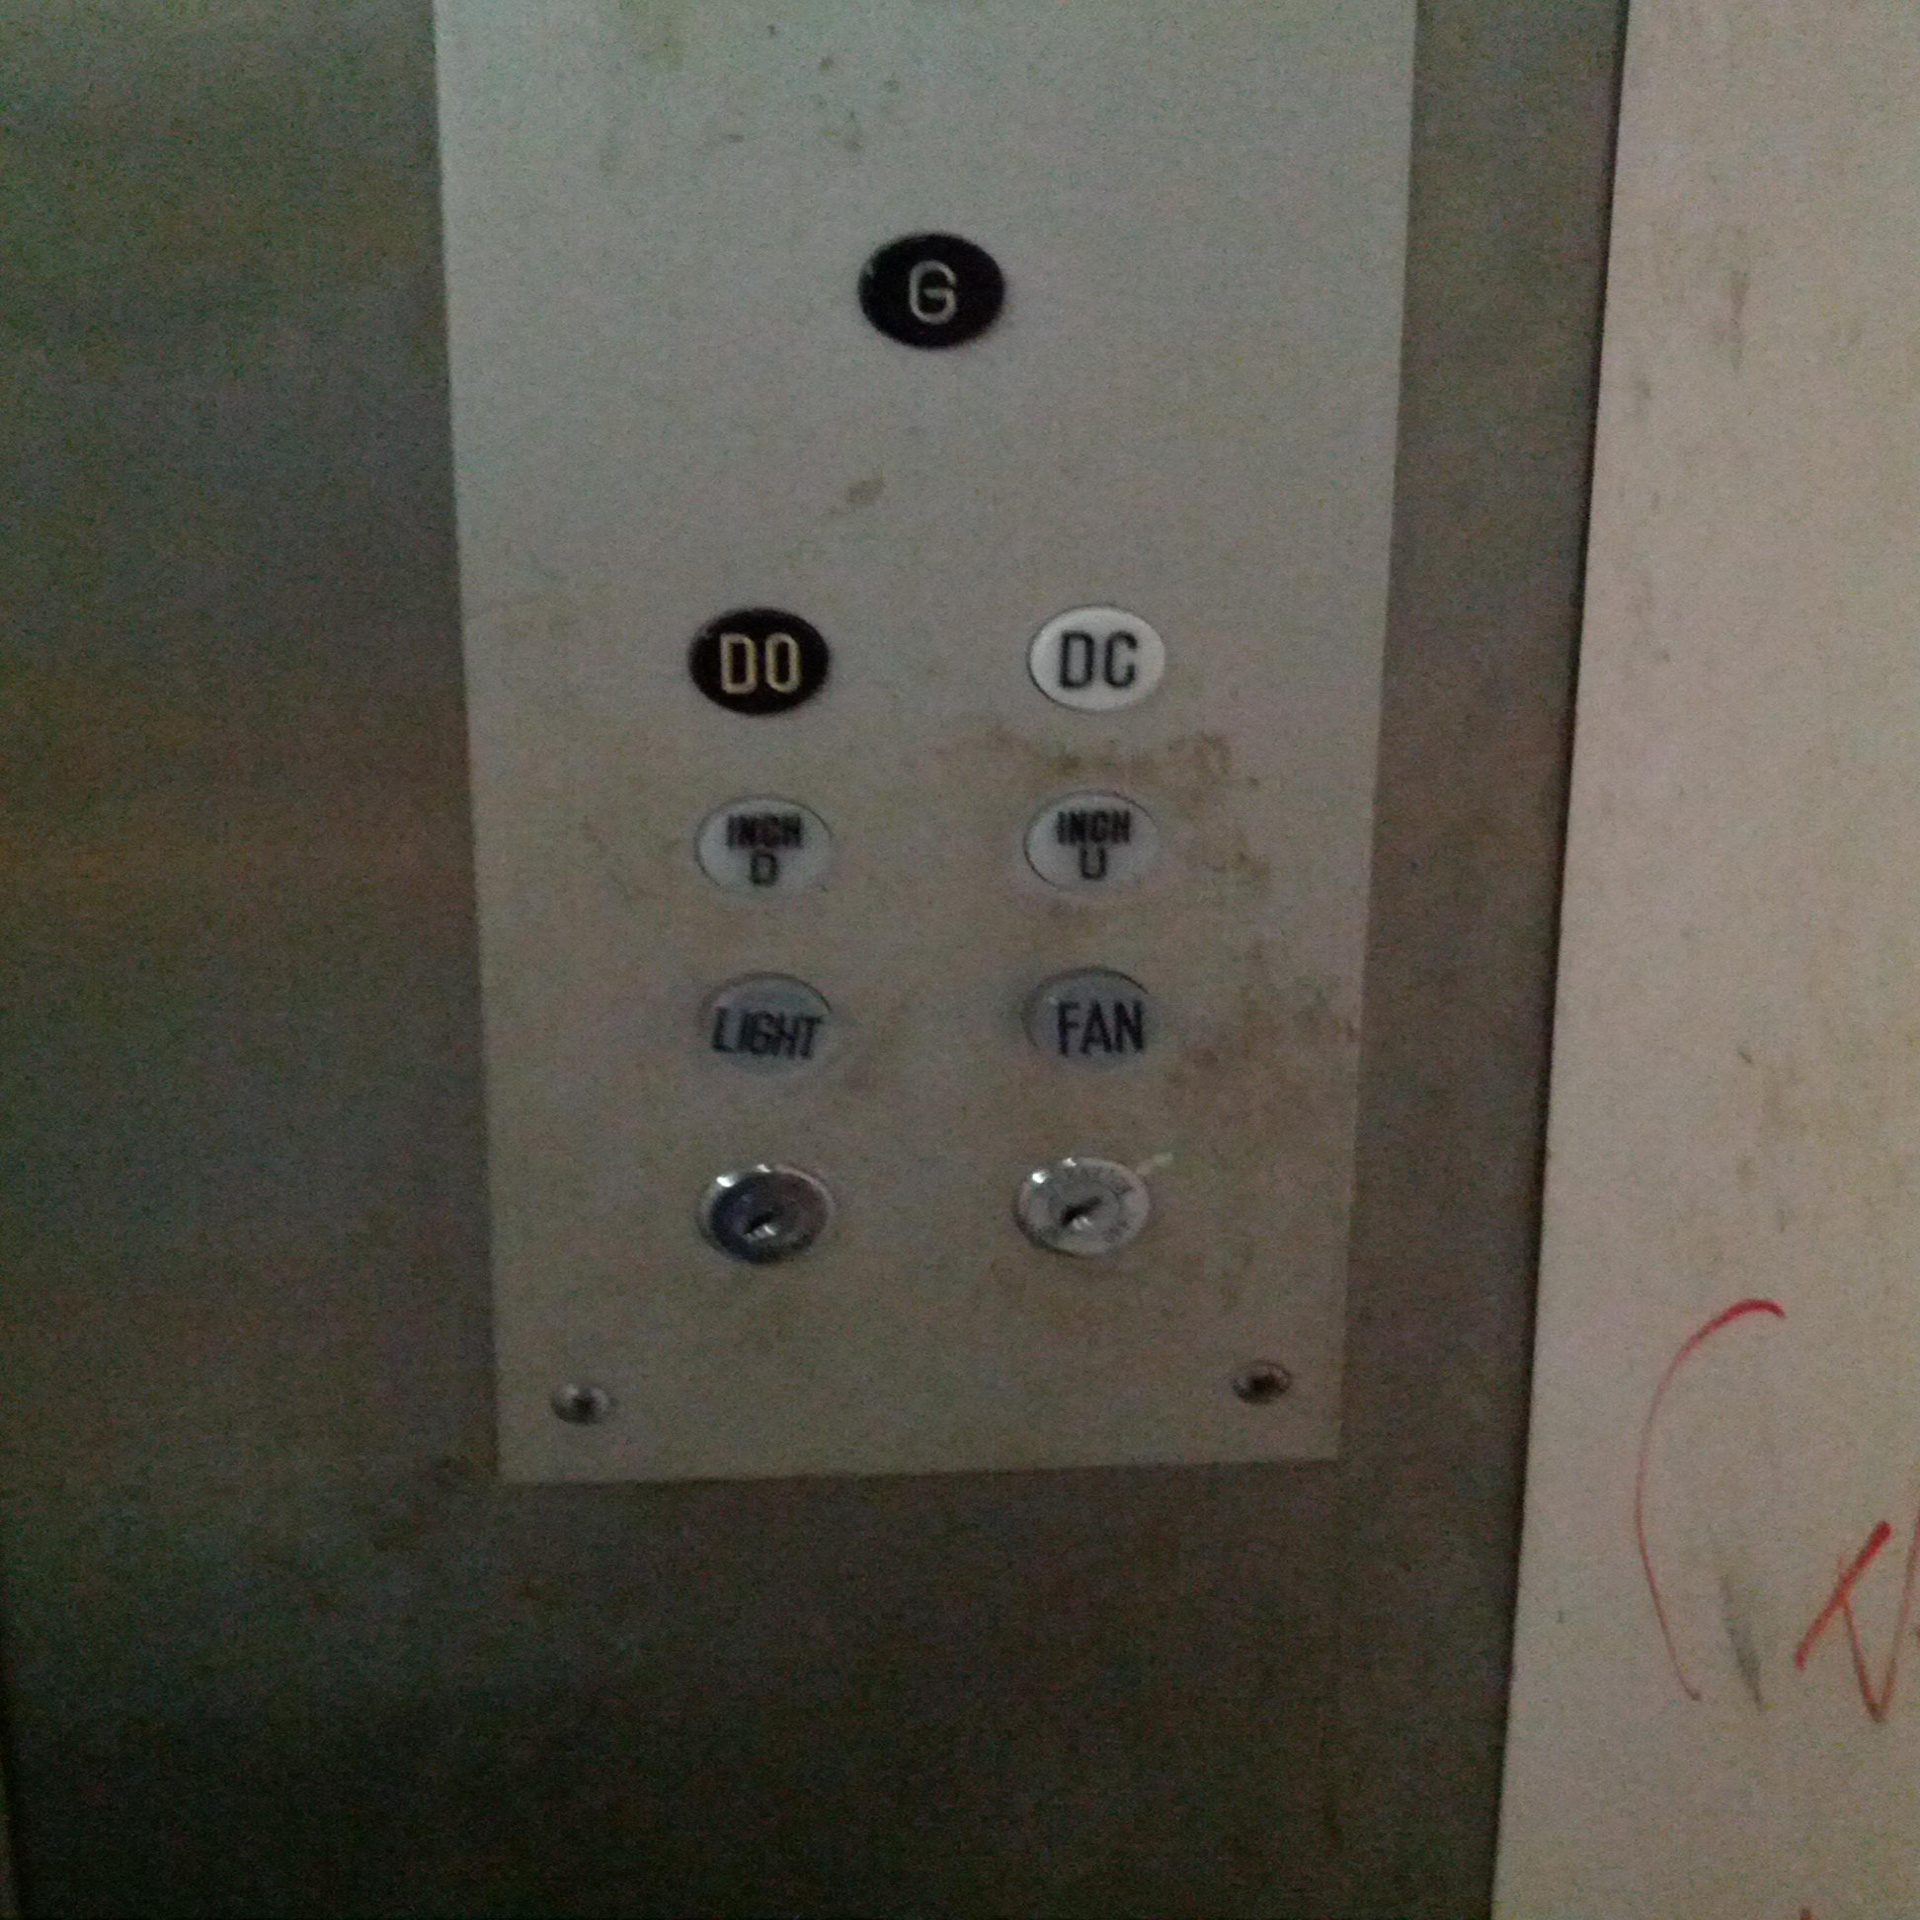DC: (1025, 603, 1171, 714)
DO: (684, 605, 833, 721)
G: (856, 234, 1007, 350)
keyhole: (1009, 1152, 1155, 1259), (696, 1160, 835, 1268)
text: (1020, 789, 1164, 891), (695, 796, 835, 898)
text_FAN: (1022, 969, 1159, 1071)
text_light: (700, 972, 842, 1085)
